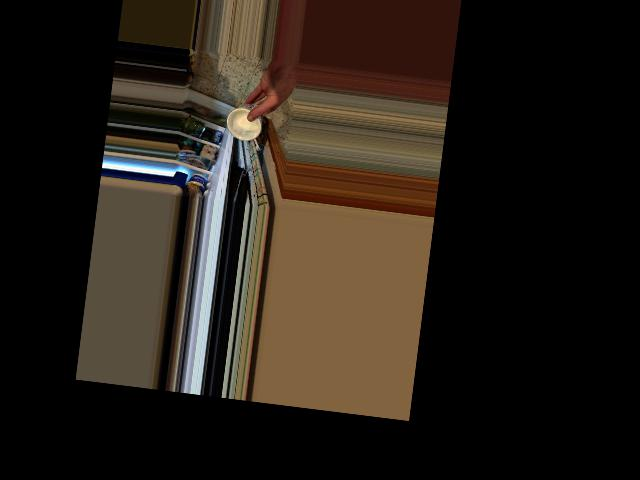cotage: (225, 98, 265, 147)
